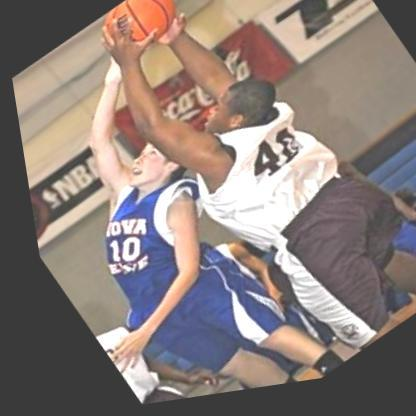basketball: (82, 0, 201, 78)
